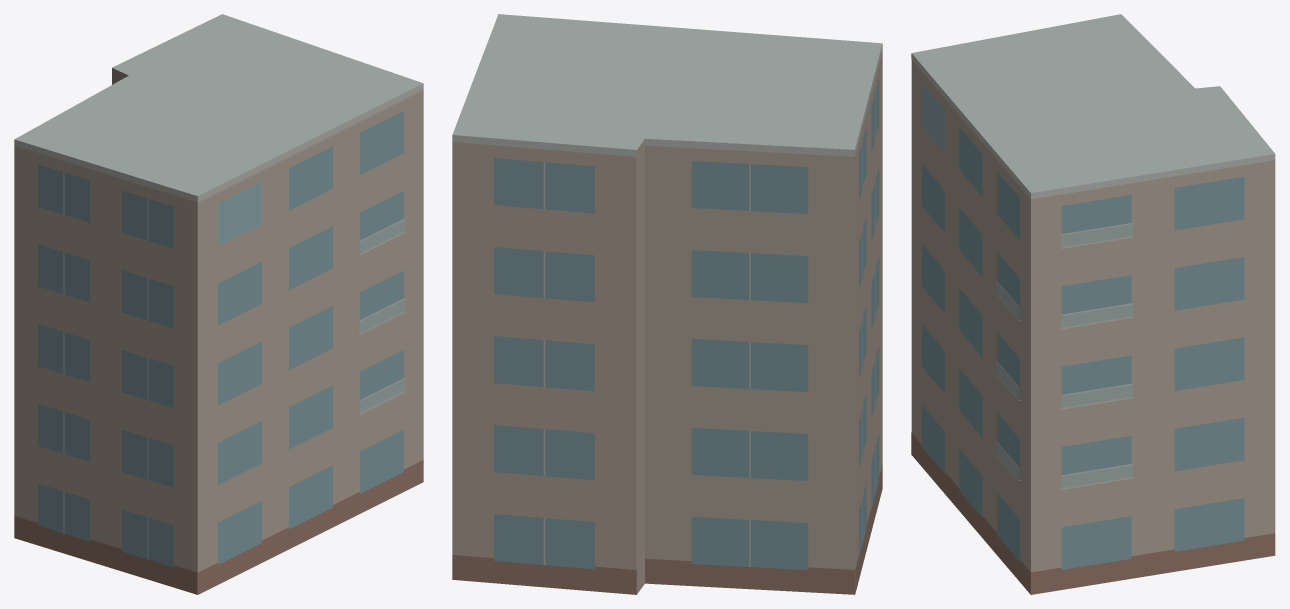
Rendered from survey-upis-32859519.glb.
3 renders of one model, left to right at view 1: azimuth 30°, elevation 25°; view 2: azimuth 150°, elevation 25°; view 3: azimuth 270°, elevation 25°, orthographic. The views are drawn at different scales.
Visible parts, largest first — view 1: survey-upis-32859519.tmp; view 2: survey-upis-32859519.tmp; view 3: survey-upis-32859519.tmp.
Part boxes in pixels (x1=…): survey-upis-32859519.tmp: x1=14, y1=14, x2=423, y2=594; survey-upis-32859519.tmp: x1=452, y1=14, x2=882, y2=594; survey-upis-32859519.tmp: x1=911, y1=14, x2=1275, y2=594.
Size of the model in its own units: 14.87 by 15.53 by 12.76.
